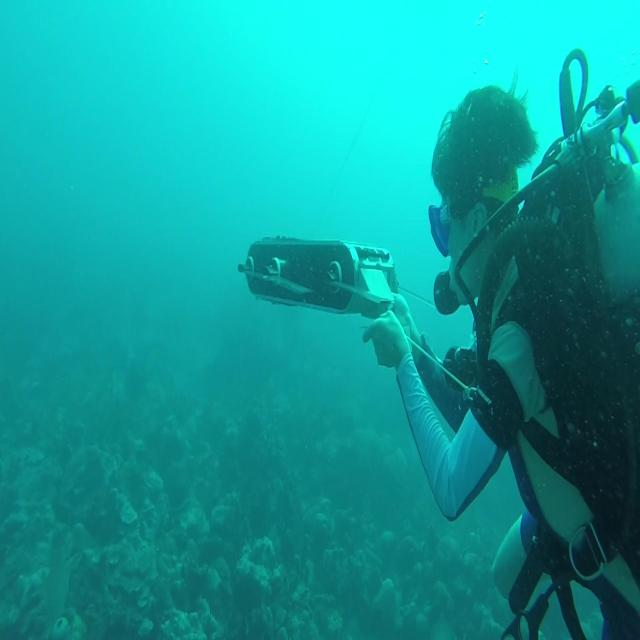human: (361, 70, 639, 638)
